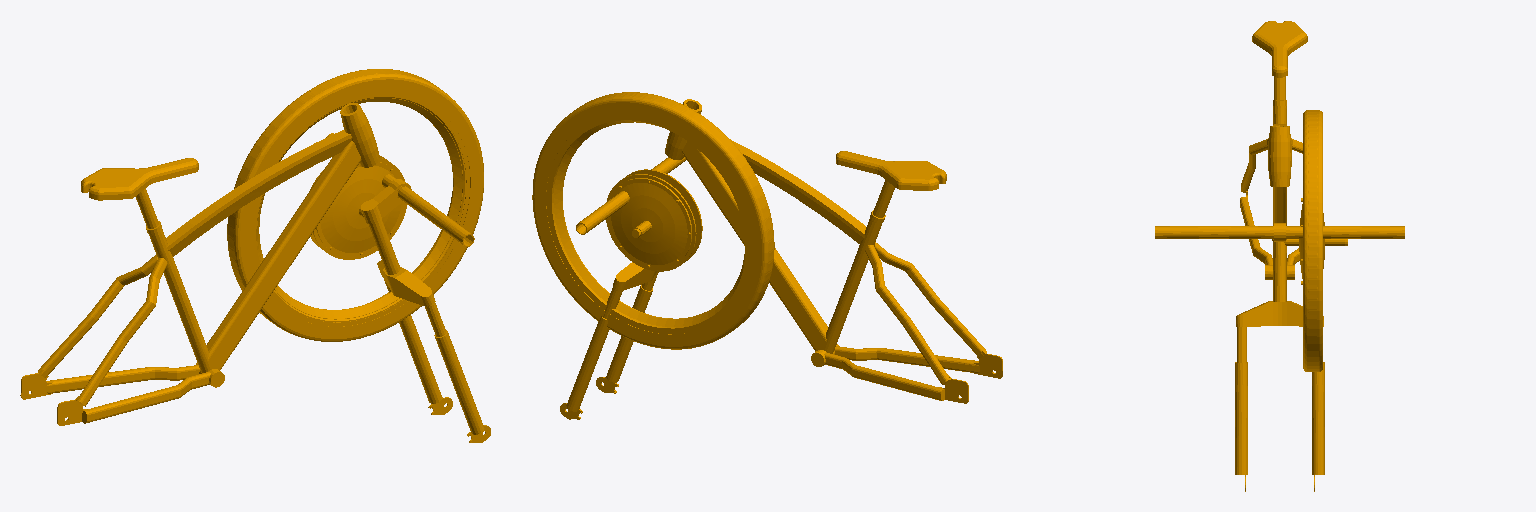
robot.urdf — bike_top_tube_single_vscode:
<?xml version="1.0" ?>
<robot name="bike_top_tube_single_vscode">
  <link name="bike_link">
    <visual>
      <origin xyz="0 0 0" rpy="0 0 0"/>
      <geometry>
        <mesh filename="package://resmimic_assets/bicycle_top_tube/meshes/bike_top_tube_merged.obj"/>
      </geometry>
    </visual>
  </link>
</robot>

--- Render facts (derived) ---
Views: 3 orthographic renders of the robot side by side, from view 1: azimuth 30°, elevation 25°; view 2: azimuth 150°, elevation 25°; view 3: azimuth 270°, elevation 25°.
Robot: bike_top_tube_single_vscode — 1 links, 0 joints (none); root link bike_link; default pose: all joints at 0.
Visible links, largest first — view 1: bike_link; view 2: bike_link; view 3: bike_link.
Link boxes in pixels (left/top/right/bottom): bike_link: left=20, top=69, right=490, bottom=442; bike_link: left=532, top=92, right=1002, bottom=419; bike_link: left=1155, top=21, right=1404, bottom=491.
Bounding box of the posed robot: 1.2 × 0.62 × 0.9013 m (x, y, z).
Meshes: 1 distinct files referenced, 1 mesh visuals loaded (1 OBJ).
